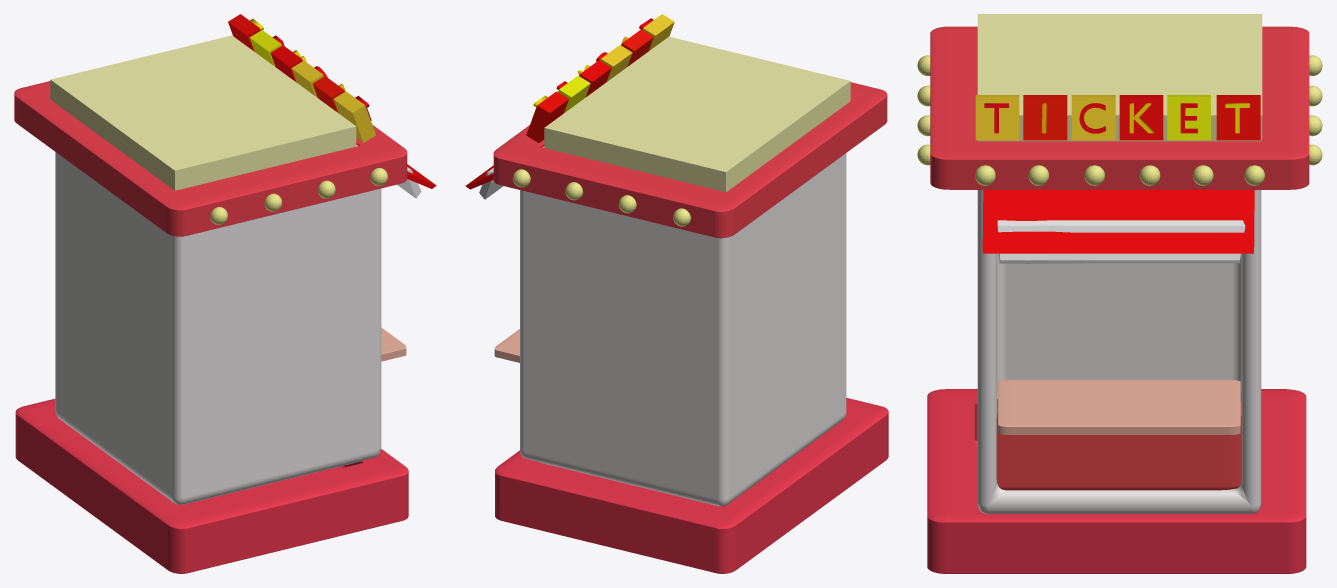
The model's file is ticket booth.fbx.
3 renders of one model, left to right at view 1: azimuth 30°, elevation 25°; view 2: azimuth 150°, elevation 25°; view 3: azimuth 270°, elevation 25°, orthographic. The views are drawn at different scales.
Visible parts, largest first — view 1: Cube.007, Cube.011, Cube.010, Cube.004, Plane.008, Plane.007, Plane.003, Plane.005, Plane.006, Plane.002, Cube.006; view 2: Cube.007, Cube.011, Cube.010, Cube.004, Plane.007, Plane.006, Plane.002, Plane.003, Plane.005, Plane.008, Cube.006; view 3: Cube.007, Cube.010, Cube.004, Cube.011, Plane.001, Cube.009, Cube.006, Plane, Plane.002, Plane.008, Plane.007, Plane.003 (+2 smaller).
Part boxes in pixels (x1,y1,x2,y2): Cube.007: (55, 144, 381, 504); Cube.011: (50, 35, 356, 190); Cube.010: (15, 398, 408, 573); Cube.004: (14, 81, 407, 236); Plane.008: (333, 91, 375, 142); Plane.007: (228, 14, 260, 51); Plane.003: (291, 60, 323, 97); Plane.005: (270, 45, 302, 82); Plane.006: (249, 30, 281, 66); Plane.002: (312, 76, 344, 112); Cube.006: (381, 327, 406, 361); Cube.007: (520, 146, 846, 506); Cube.011: (544, 36, 850, 192); Cube.010: (495, 397, 888, 573); Cube.004: (493, 82, 887, 238); Plane.007: (526, 91, 568, 142); Plane.006: (558, 75, 590, 112); Plane.002: (621, 29, 653, 66); Plane.003: (600, 45, 632, 81); Plane.005: (579, 60, 611, 96); Plane.008: (642, 14, 674, 50); Cube.006: (494, 329, 519, 362); Cube.007: (977, 190, 1261, 513); Cube.010: (927, 389, 1306, 573); Cube.004: (930, 26, 1309, 189); Cube.011: (977, 14, 1262, 141); Plane.001: (982, 190, 1254, 253); Cube.009: (996, 399, 1241, 490); Cube.006: (998, 379, 1240, 434); Plane: (997, 220, 1245, 263); Plane.002: (1023, 95, 1067, 140); Plane.008: (975, 95, 1019, 140); Plane.007: (1216, 95, 1260, 140); Plane.003: (1071, 95, 1115, 140).
Size of the model in its own units: 693 by 943 by 746.
